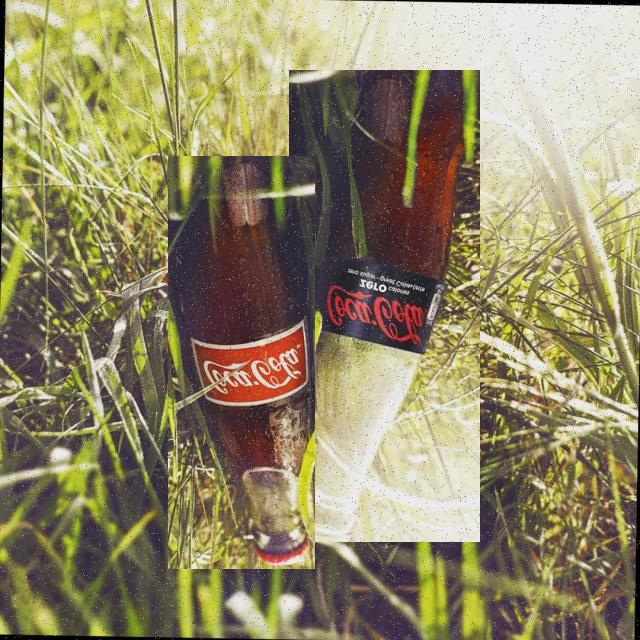coca-cola: (289, 70, 480, 542), (168, 156, 315, 569)
